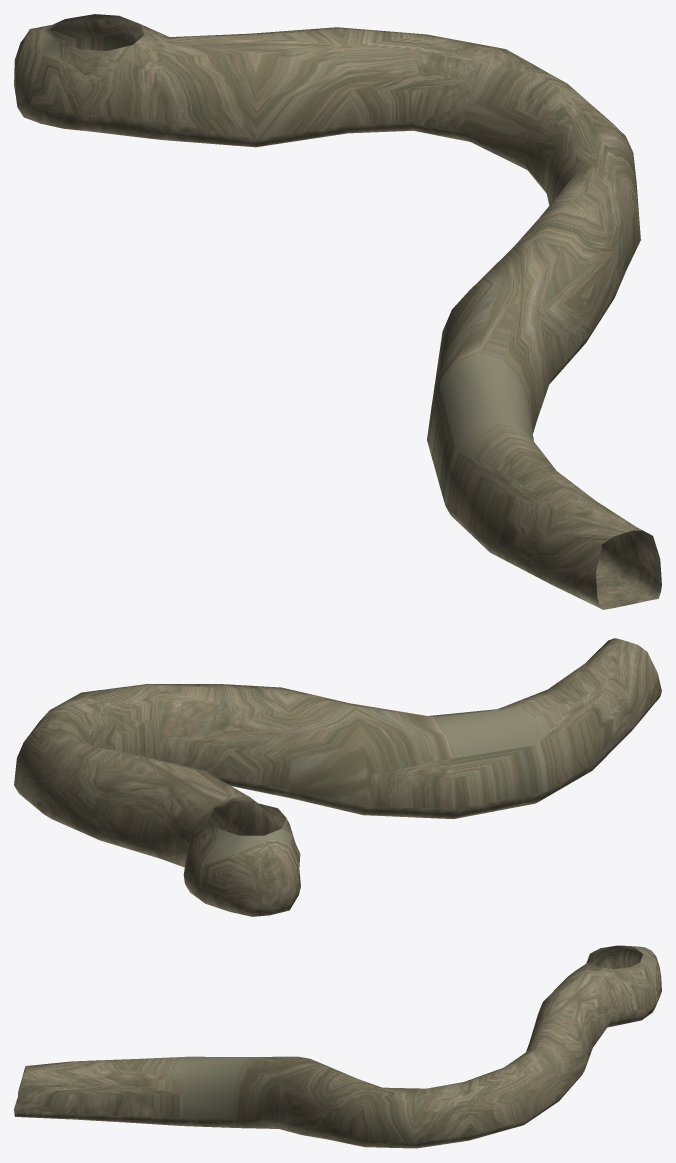
Rendered from OVERHILL_A_01_TRES_EXIT_CAVE.fbx.
3 views of the same model, one above another, from view 1: azimuth 30°, elevation 25°; view 2: azimuth 150°, elevation 25°; view 3: azimuth 270°, elevation 25° (orthographic). The views are drawn at different scales.
Parts seen in each view (by area): view 1: OVERHILL_A_01_TRES_EXIT_CAVE; view 2: OVERHILL_A_01_TRES_EXIT_CAVE; view 3: OVERHILL_A_01_TRES_EXIT_CAVE.
Part boxes in pixels (left/top/right/bottom): OVERHILL_A_01_TRES_EXIT_CAVE: left=14, top=14, right=661, bottom=609; OVERHILL_A_01_TRES_EXIT_CAVE: left=14, top=638, right=661, bottom=916; OVERHILL_A_01_TRES_EXIT_CAVE: left=14, top=945, right=661, bottom=1148.
Size of the model in its own units: 163369 by 85627 by 339521.
Materials: 1 (1 with a texture image).
